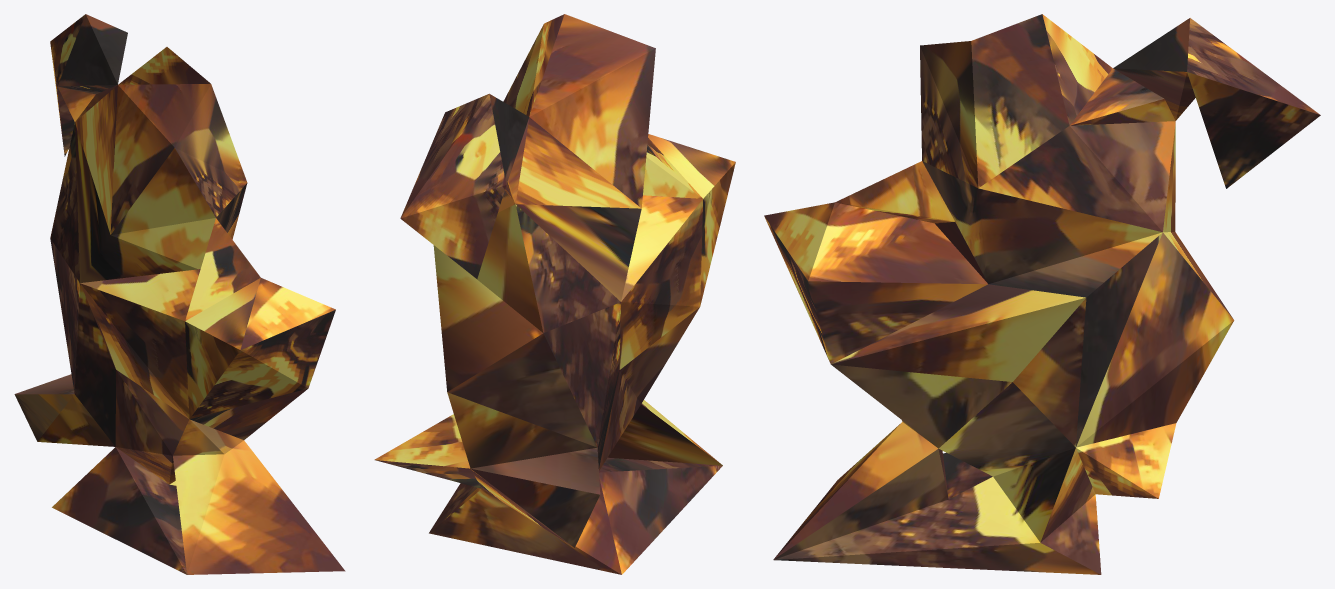
3 views of the same model, side by side, from view 1: azimuth 30°, elevation 25°; view 2: azimuth 150°, elevation 25°; view 3: azimuth 270°, elevation 25° (orthographic). The views are drawn at different scales.
Visible parts, largest first — view 1: ai_model; view 2: ai_model; view 3: ai_model.
Part boxes in pixels (box(x1,y1,x2,y2)): ai_model: box(14, 14, 345, 574); ai_model: box(374, 14, 735, 574); ai_model: box(764, 14, 1320, 574).
Size of the model in its own units: 0.4533 by 0.9769 by 0.9518.
